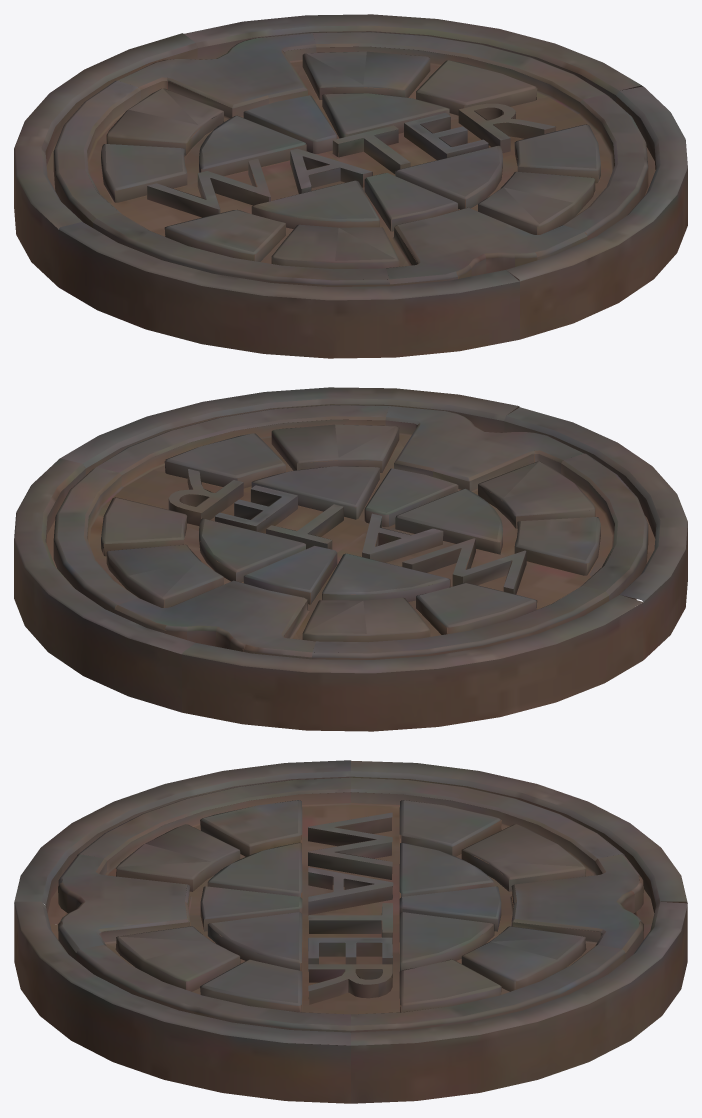
The model's file is manhole_cover.glb.
The picture shows the model from 3 angles, top to bottom: view 1: azimuth 30°, elevation 25°; view 2: azimuth 150°, elevation 25°; view 3: azimuth 270°, elevation 25°; orthographic projection.
Parts seen in each view (by area): view 1: manhole_cover; view 2: manhole_cover; view 3: manhole_cover.
Part boxes in pixels (box(x1,y1,x2,y2)): manhole_cover: box(14, 14, 687, 358); manhole_cover: box(14, 387, 687, 731); manhole_cover: box(14, 760, 687, 1103).
Size of the model in its own units: 0.6912 by 0.068 by 0.6912.
1 material, 1 textured.
